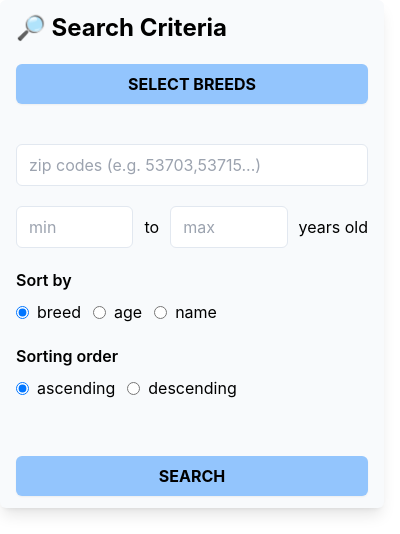
Test: mal-formatted min and max ages are prevented › min = 1.2         - expect error message
Type "1.2" into the number field with placeholder "min" at point(75, 227), box [16,206,133,248]
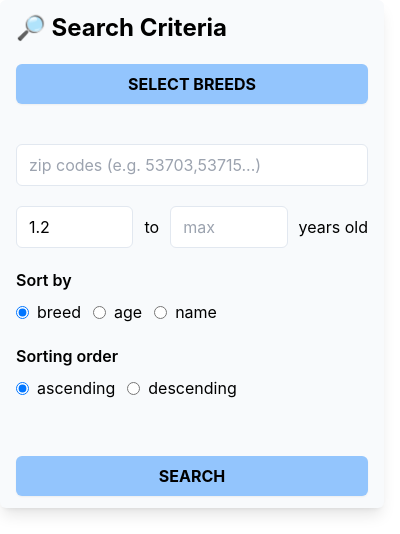
Click the button "SEARCH" at point(192, 476), box [16,456,368,496]
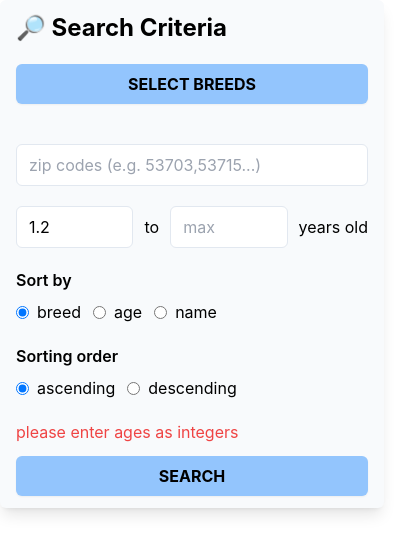
expect the text "please enter ages as integers" is shown: met, box [16,422,238,442]
